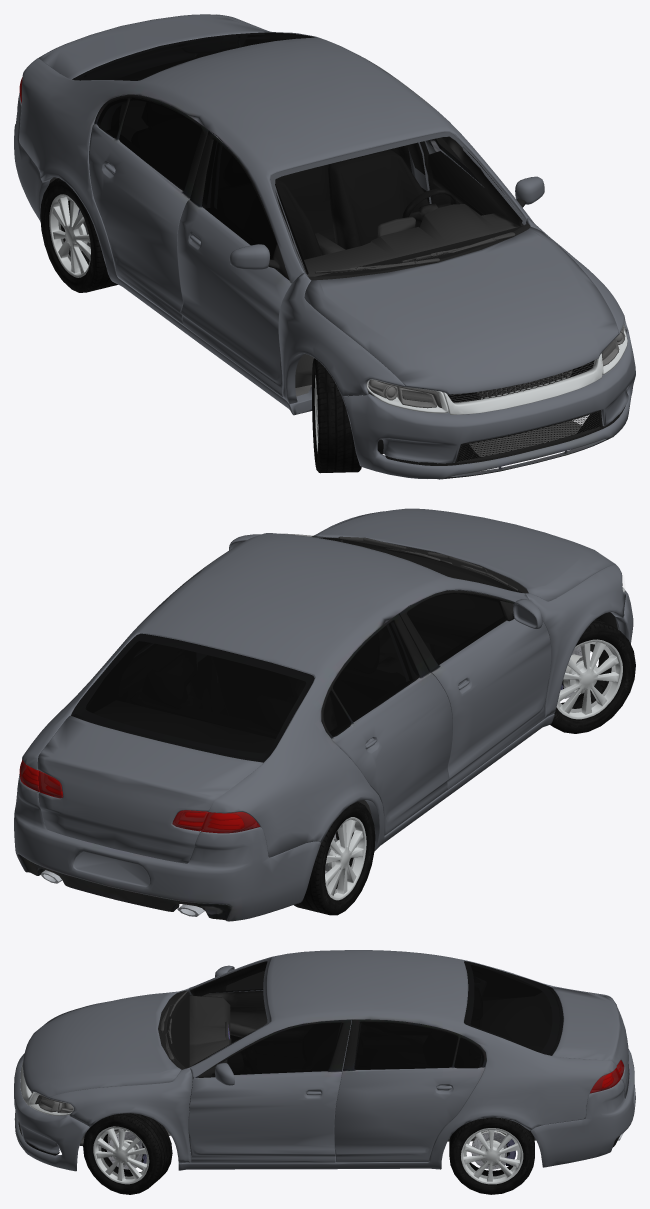
Rendered from sedan.glb.
3 renders of one model, top to bottom at view 1: azimuth 30°, elevation 25°; view 2: azimuth 150°, elevation 25°; view 3: azimuth 270°, elevation 25°, orthographic. The views are drawn at different scales.
Visible parts, largest first — view 1: sedan-unibody_65, hood_60, windshield_102, bumper-front_8, door-front-r_17, door-rear-r_23, fender-front-r_33, front-seat-backrest_39, dashboard_13, trunk_99, door-rear-window-glass-r_27, door-front-window-glass-r_19 (+21 smaller); view 2: sedan-unibody_65, glass-rear_42, trunk_99, bumper-rear_10, door-front-r_17, door-rear-r_23, hood_60, fender-front-r_33, door-rear-window-glass-r_27, door-front-window-glass-r_19, generic-wheel.001_126, generic-tire-low.001_125 (+8 smaller); view 3: sedan-unibody_65, door-front-l_16, door-rear-l_22, hood_60, windshield_102, glass-rear_42, fender-front-l_32, bumper-rear_10, trunk_99, door-rear-window-glass-l_26, door-front-window-glass-l_18, bumper-front_8 (+14 smaller).
Part boxes in pixels (<box>): sedan-unibody_65: <box>19,14,533,415</box>; hood_60: <box>304,227,618,394</box>; windshield_102: <box>270,132,527,276</box>; bumper-front_8: <box>342,328,635,479</box>; door-front-r_17: <box>177,131,291,396</box>; door-rear-r_23: <box>89,94,208,323</box>; fender-front-r_33: <box>278,273,404,404</box>; front-seat-backrest_39: <box>328,149,428,249</box>; dashboard_13: <box>304,204,521,276</box>; trunk_99: <box>38,14,264,79</box>; door-rear-window-glass-r_27: <box>119,98,201,190</box>; door-front-window-glass-r_19: <box>202,139,276,259</box>; sedan-unibody_65: <box>20,533,554,857</box>; glass-rear_42: <box>71,633,314,762</box>; trunk_99: <box>37,715,263,863</box>; bumper-rear_10: <box>14,774,320,921</box>; door-front-r_17: <box>398,590,551,790</box>; door-rear-r_23: <box>321,614,452,835</box>; hood_60: <box>312,508,615,601</box>; fender-front-r_33: <box>525,564,625,718</box>; door-rear-window-glass-r_27: <box>333,621,419,721</box>; door-front-window-glass-r_19: <box>407,593,505,664</box>; generic-wheel.001_126: <box>556,639,622,719</box>; generic-tire-low.001_125: <box>550,617,635,733</box>; sedan-unibody_65: <box>178,950,621,1170</box>; door-front-l_16: <box>188,1019,351,1162</box>; door-rear-l_22: <box>334,1019,486,1162</box>; hood_60: <box>22,991,181,1098</box>; windshield_102: <box>167,958,270,1068</box>; glass-rear_42: <box>464,961,563,1055</box>; fender-front-l_32: <box>49,1067,192,1163</box>; bumper-rear_10: <box>530,1049,635,1167</box>; trunk_99: <box>552,987,629,1098</box>; door-rear-window-glass-l_26: <box>354,1022,457,1069</box>; door-front-window-glass-l_18: <box>227,1023,342,1074</box>; bumper-front_8: <box>14,1053,89,1171</box>.
Size of the model in its own units: 2.16 by 1.5 by 4.98.
Materials: 21 (7 with a texture image).
